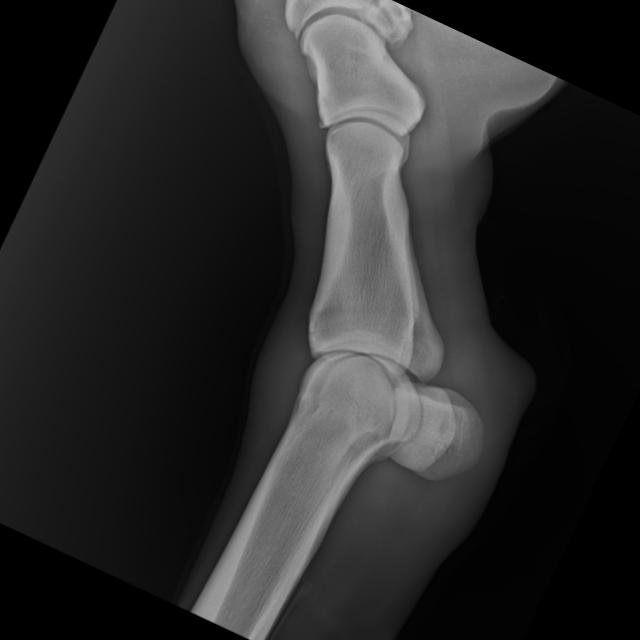joint-ht8A: (214, 244, 545, 550)
